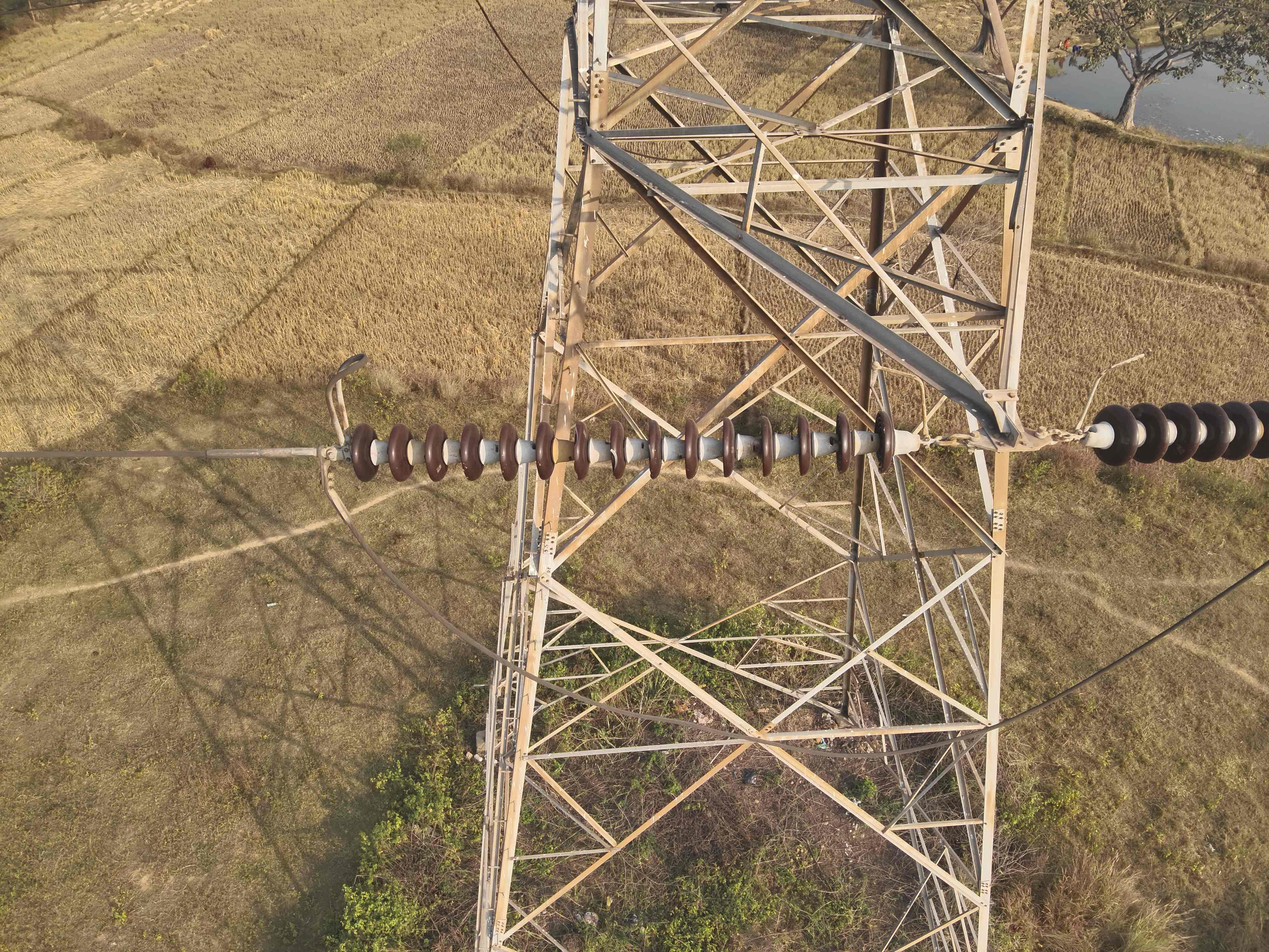broken_insulator: (605, 418, 633, 485), (567, 419, 597, 481)
